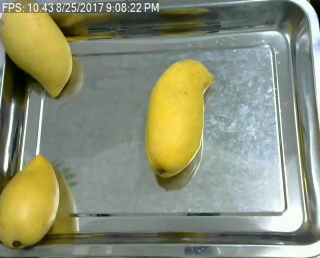Mango: (144, 59, 216, 180), (0, 1, 76, 97), (0, 153, 63, 248)
